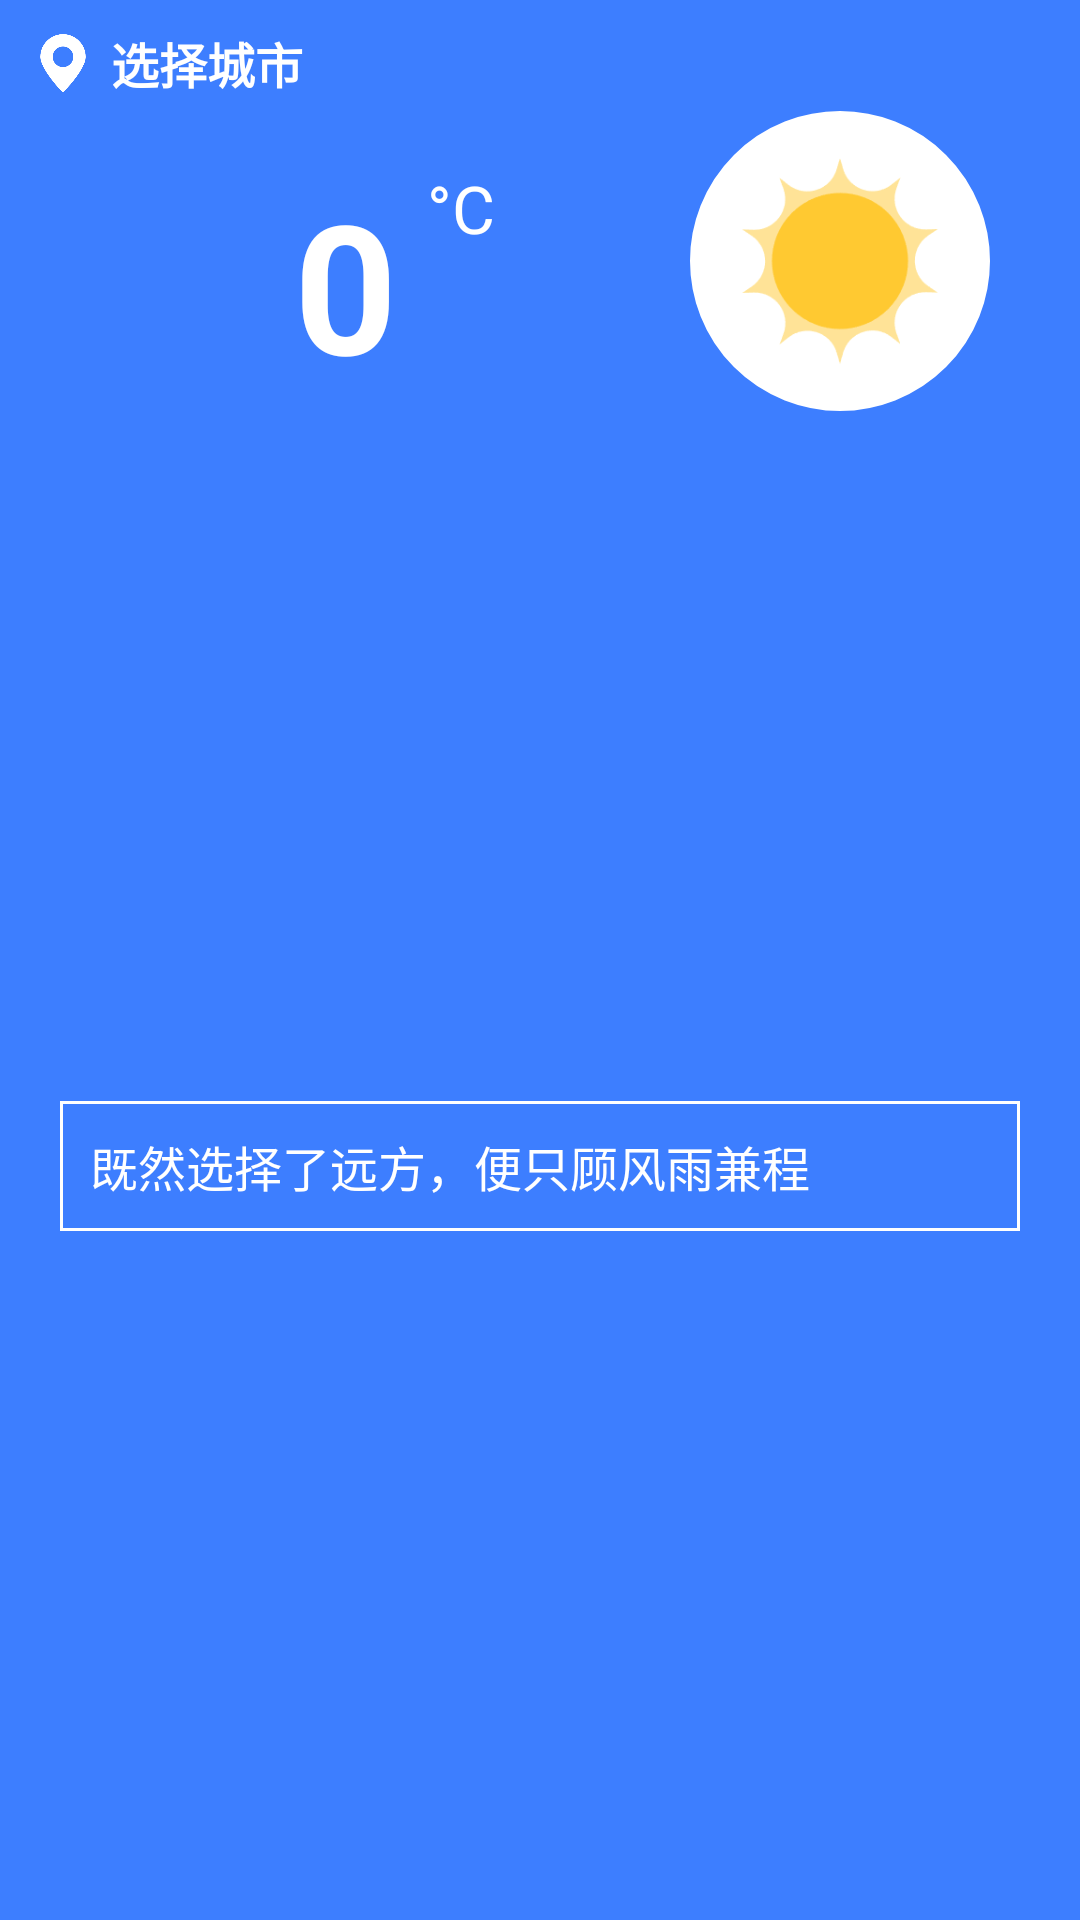

Screen size 1080 x 1920. Icon name, then its center in pixels as (x=x, y=y):
clear day: (x=840, y=261)
location: (x=63, y=63)
